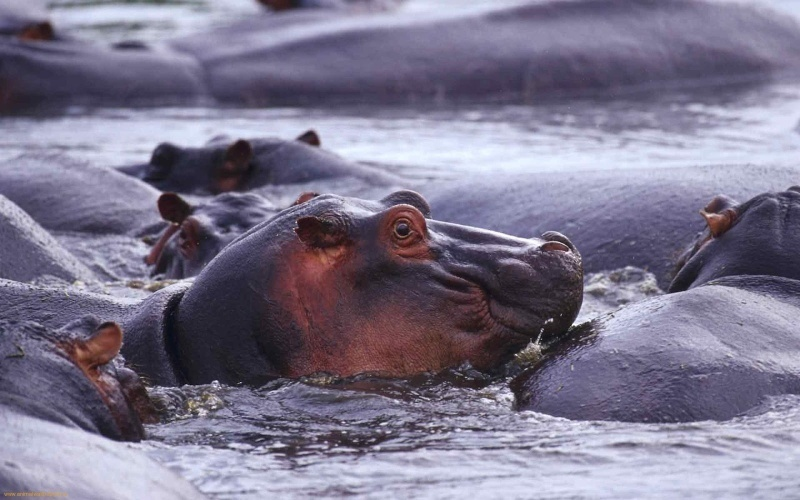hipopotamo: (1, 185, 589, 390), (1, 1, 793, 146), (138, 111, 798, 276), (562, 185, 800, 436), (1, 311, 168, 500)
